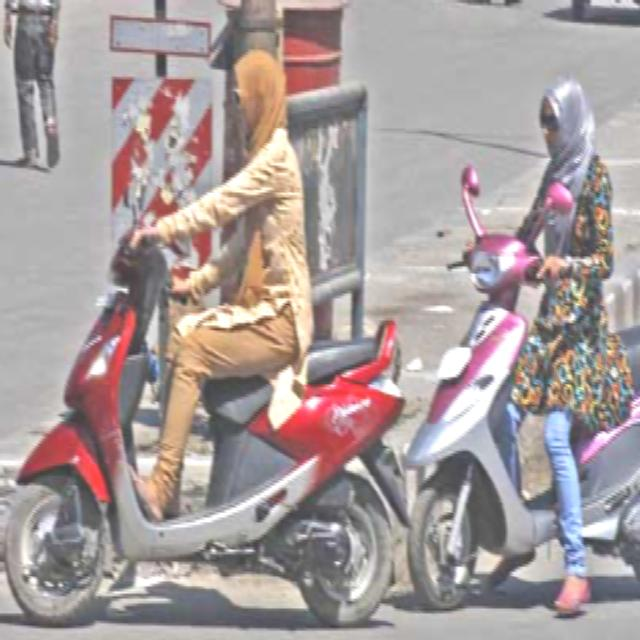Without Helmet: (223, 42, 294, 157), (530, 66, 608, 168)
